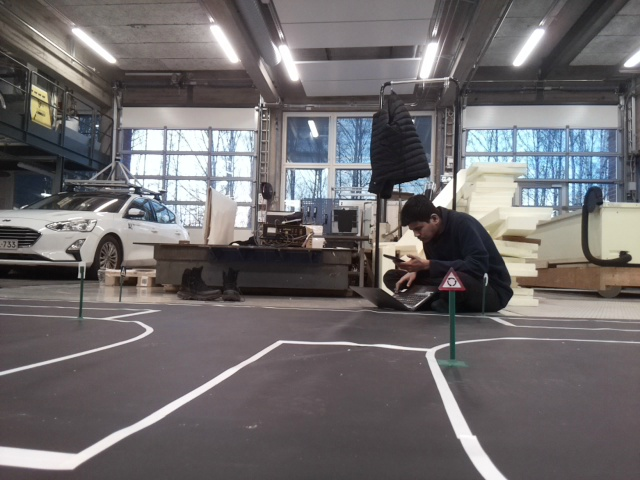Roundabout: (437, 267, 466, 291)
